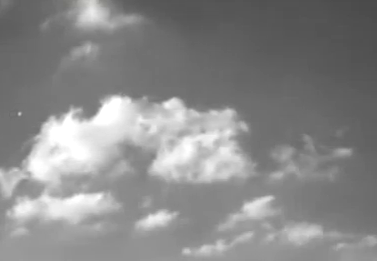Target: (19, 113, 21, 116)
